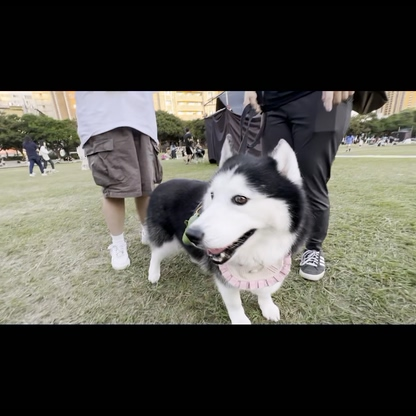husky: (141, 130, 312, 322)
